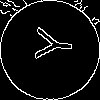Y: (25, 25, 74, 63)
